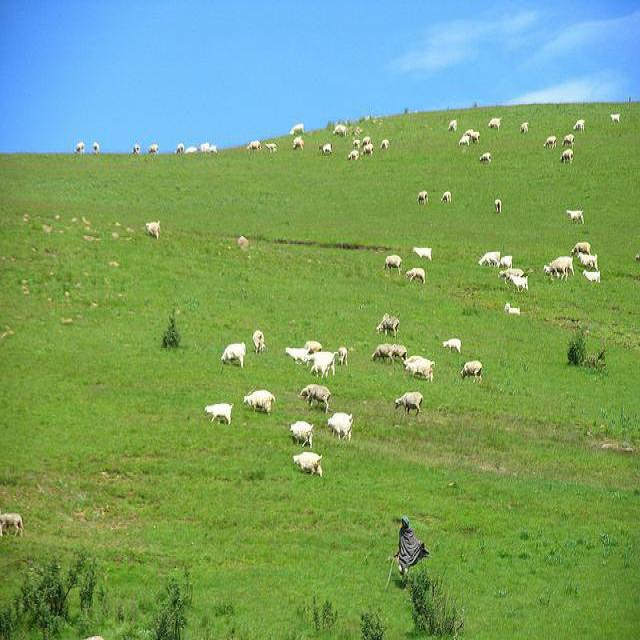Sheep: (6, 111, 639, 529)
